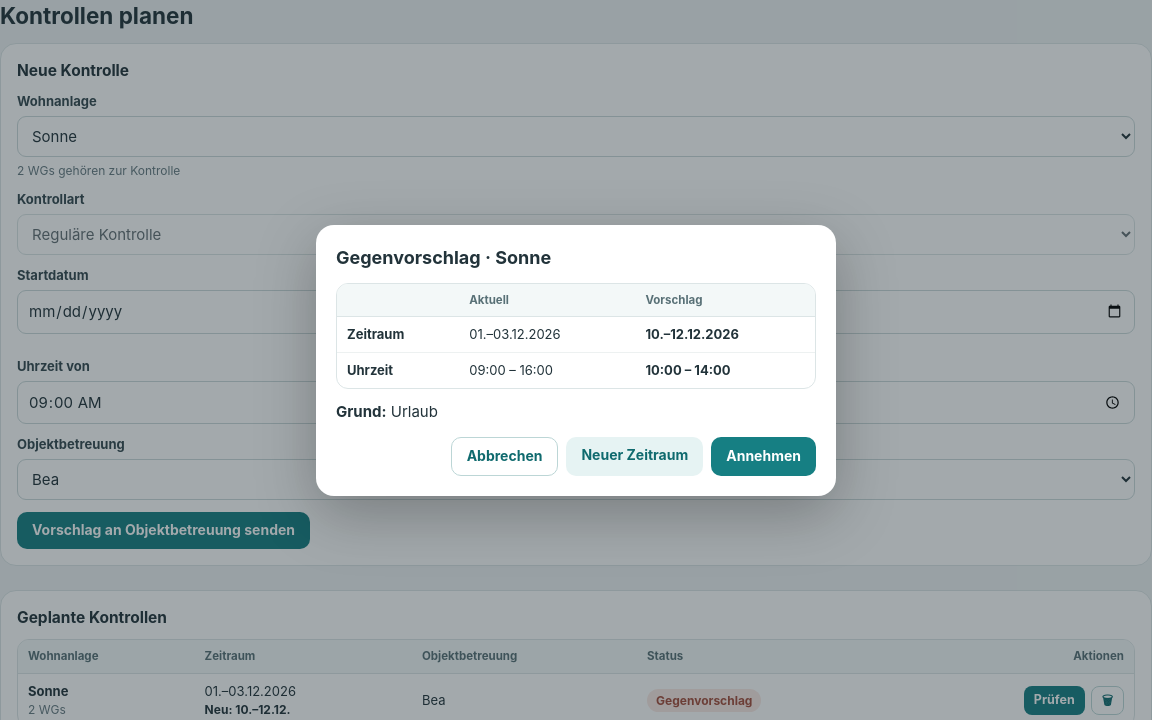
Test: opens the edit form from the review dialog
The width and height of the screenshot is (1152, 720).
Click the link "Neuer Zeitraum" at (635, 456), box [566,437,703,476]
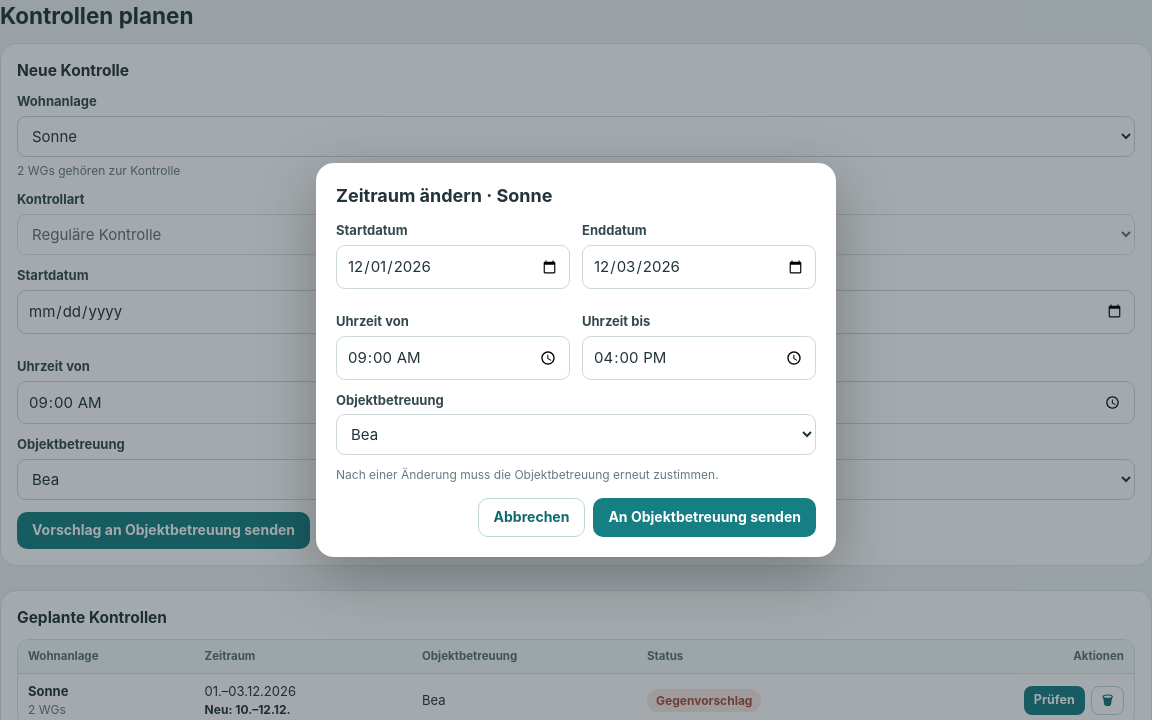
expect the dialog "Zeitraum ändern · Sonne" is shown: met, box [316,163,836,557]
expect the heading "Gegenvorschlag · Sonne" is gone: met
